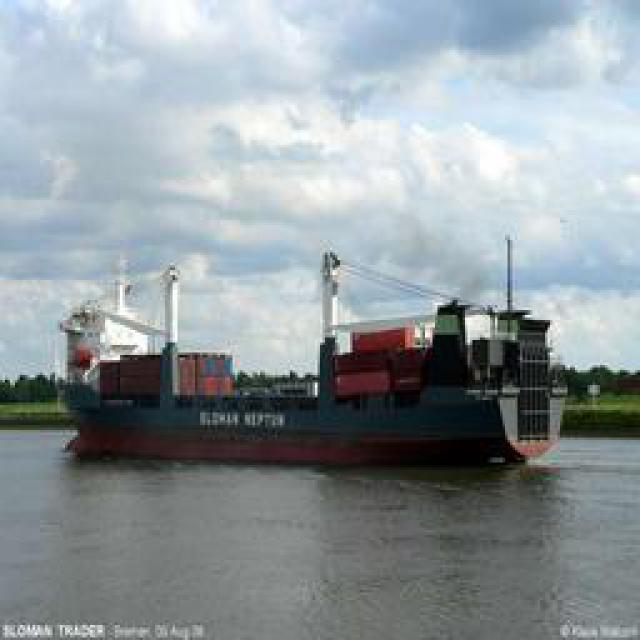Ship: (65, 236, 570, 469)
